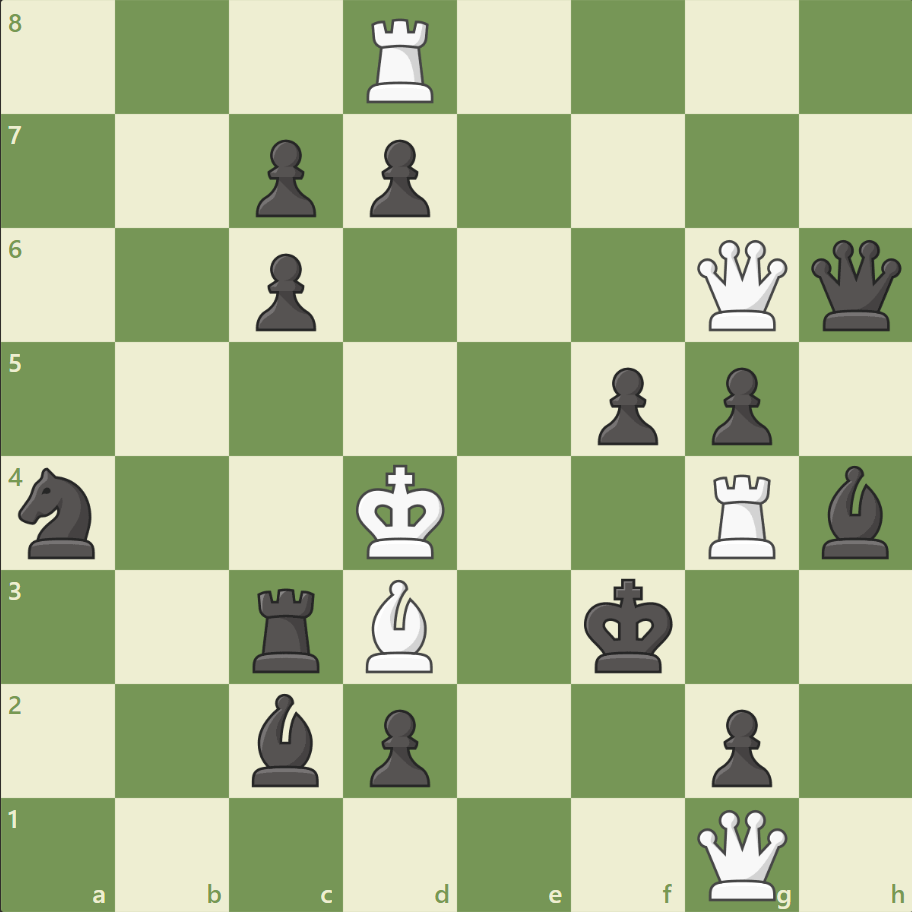B: (358, 574, 442, 676)
K: (351, 458, 451, 566)
Q: (691, 236, 790, 335), (691, 804, 790, 903)
R: (700, 466, 783, 563), (360, 12, 442, 109)
b: (812, 460, 896, 563), (244, 687, 328, 790)
k: (579, 571, 679, 679)
n: (11, 461, 108, 564)
p: (247, 132, 322, 223), (247, 246, 322, 337), (701, 359, 776, 450), (701, 700, 776, 791), (361, 132, 435, 223), (588, 359, 662, 450), (361, 700, 435, 791)
q: (805, 236, 904, 335)
r: (246, 579, 329, 676)
